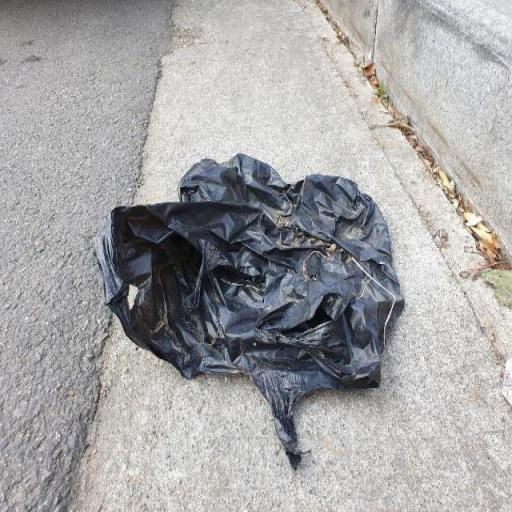plastic-bag: (92, 152, 404, 469)
